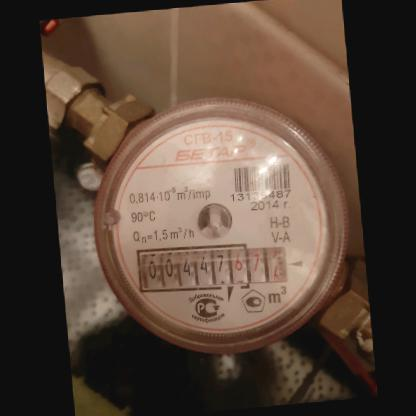digital_screen: (133, 243, 233, 295)
